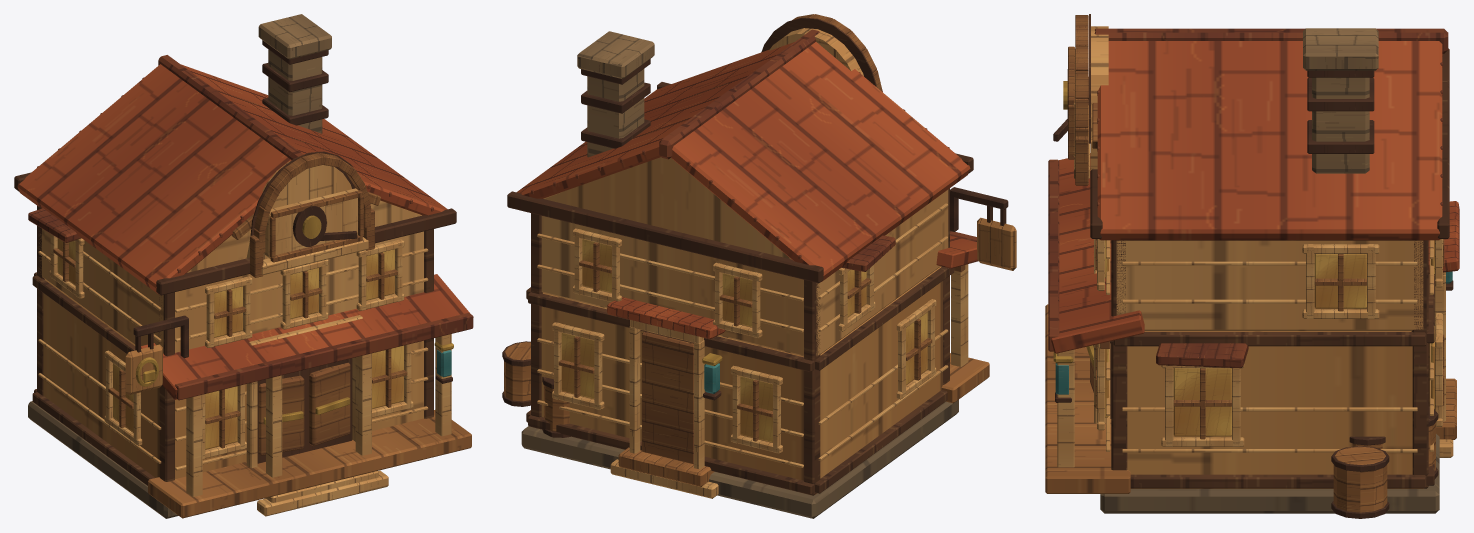
File: town-v3-tavern.glb
3 renders of one model, left to right at view 1: azimuth 30°, elevation 25°; view 2: azimuth 150°, elevation 25°; view 3: azimuth 270°, elevation 25°, orthographic. The views are drawn at different scales.
Parts seen in each view (by area): view 1: TownTavernFullWrap; view 2: TownTavernFullWrap; view 3: TownTavernFullWrap.
Part boxes in pixels (<box>): TownTavernFullWrap: <box>14,14,473,518</box>; TownTavernFullWrap: <box>502,14,1016,518</box>; TownTavernFullWrap: <box>1045,14,1459,518</box>.
Bounding box in the file's own units: 4.23 × 3.96 × 3.35.
Materials: 1 (1 with a texture image).
